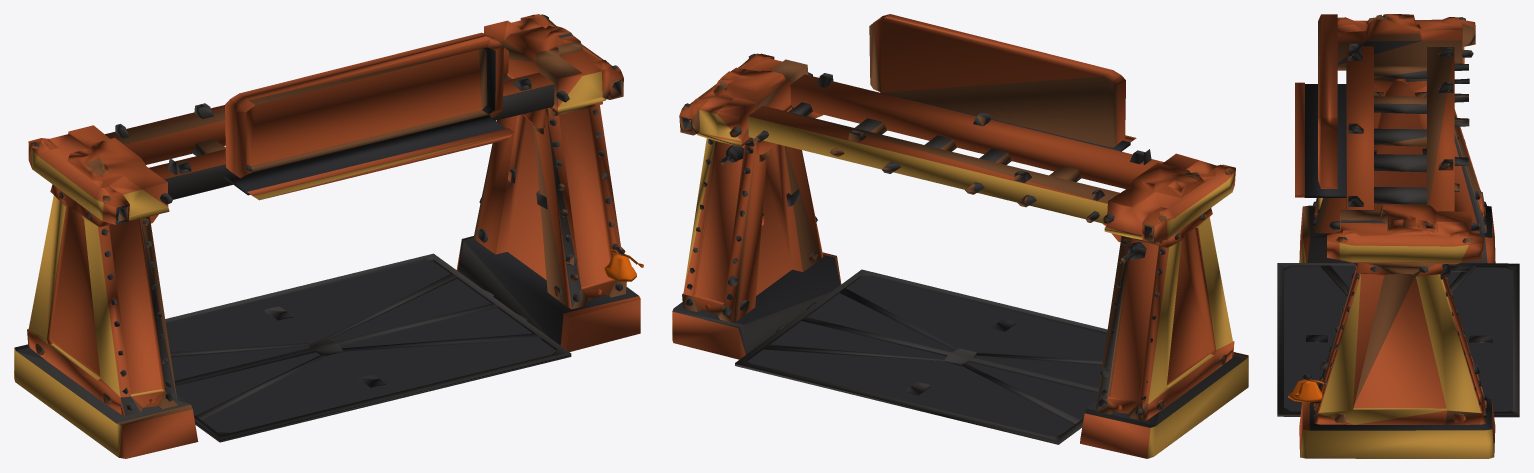
The model's file is poi_weighbridge_gantry.glb.
3 views of the same model, side by side, from view 1: azimuth 30°, elevation 25°; view 2: azimuth 150°, elevation 25°; view 3: azimuth 270°, elevation 25° (orthographic). The views are drawn at different scales.
Visible parts, largest first — view 1: WeighbridgeGantry; view 2: WeighbridgeGantry; view 3: WeighbridgeGantry.
Boxes of the visible parts, box(x1,y1,x2,y2) form: WeighbridgeGantry: box(14, 14, 643, 458); WeighbridgeGantry: box(672, 14, 1248, 458); WeighbridgeGantry: box(1277, 14, 1519, 458).
Bounding box in the file's own units: 12 × 7 × 5.46.
